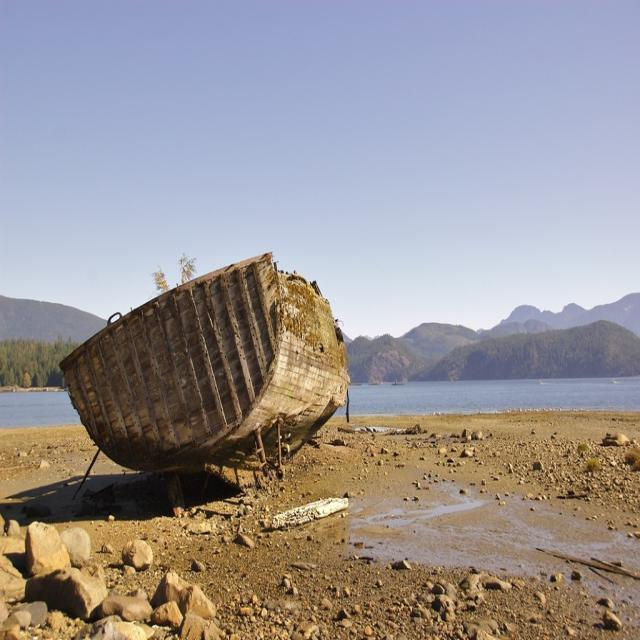Boat: (52, 262, 368, 480)
